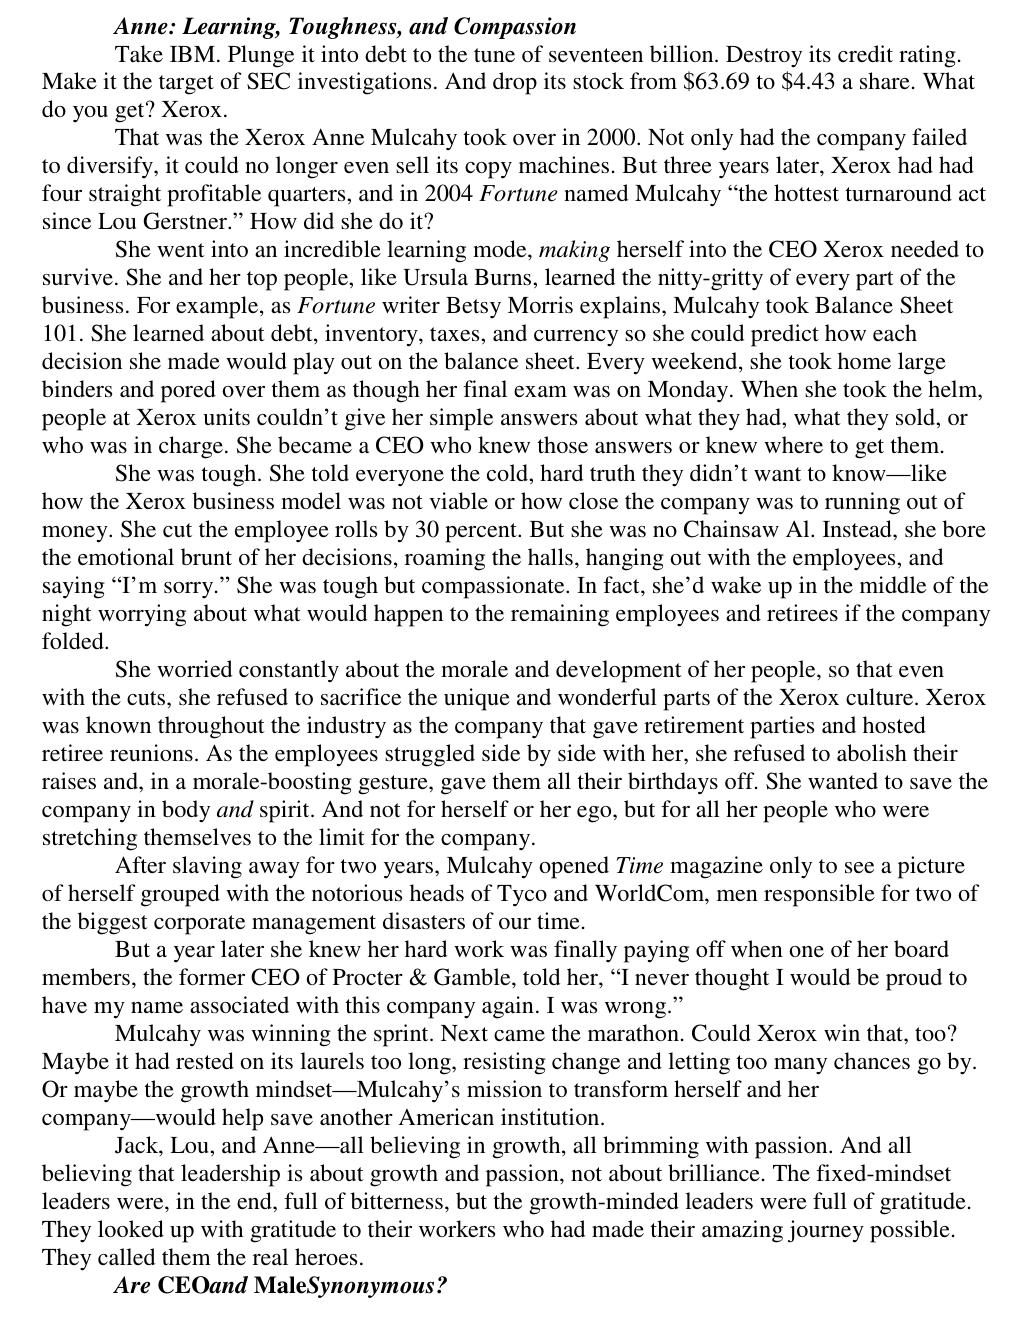latin: (28, 234, 985, 459), (25, 649, 989, 852), (34, 459, 1002, 653), (23, 1137, 975, 1304), (34, 1021, 983, 1137), (34, 125, 993, 234), (20, 936, 975, 1021), (28, 852, 996, 936), (35, 42, 979, 125), (106, 14, 578, 41)
